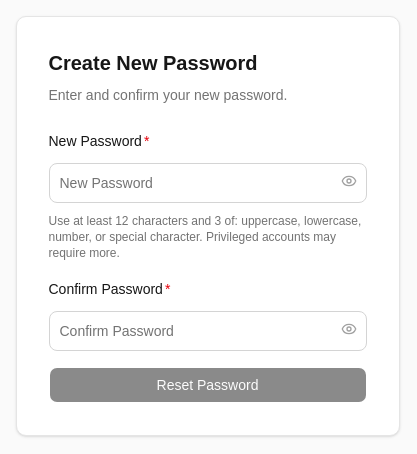
ResetPassword › enforces minimum length and complexity before submission
Step 1. Type "short-A1!" into the password field with id "new-password" → {"x": 208, "y": 183}, box [48,163,366,203]
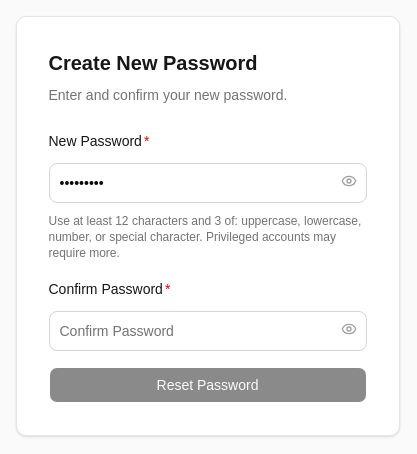
Step 2. Type "short-A1!" into the password field with id "confirm-password" → {"x": 208, "y": 331}, box [48,311,366,351]
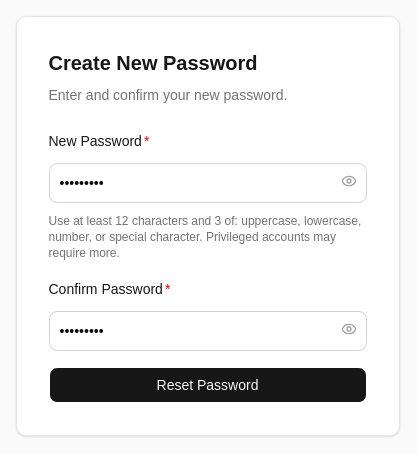
Step 3. Click the button "Reset Password" → {"x": 208, "y": 385}, box [48,367,366,403]
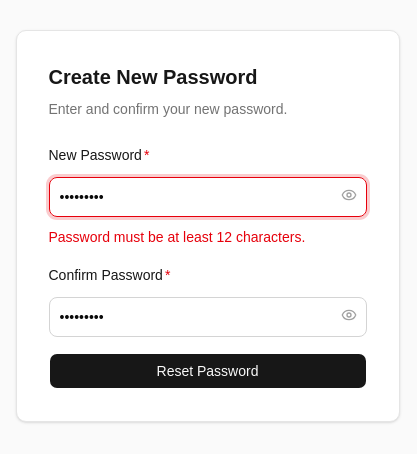
Expected: the text "Password must be at least 12 characters." is shown, [48,229,305,245]
Step 4. Type "alllowercasepassword" into the password field labelled "New Password *" → {"x": 208, "y": 197}, box [48,177,366,217]
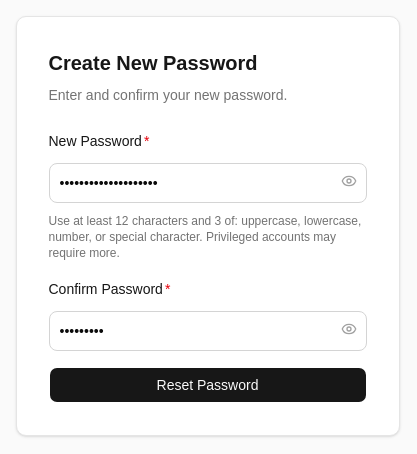
Step 5. Type "alllowercasepassword" into the password field labelled "Confirm Password *" → {"x": 208, "y": 331}, box [48,311,366,351]
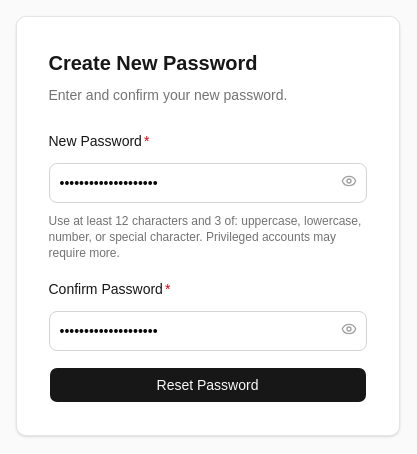
Step 6. Click the button "Reset Password" → {"x": 208, "y": 385}, box [48,367,366,403]
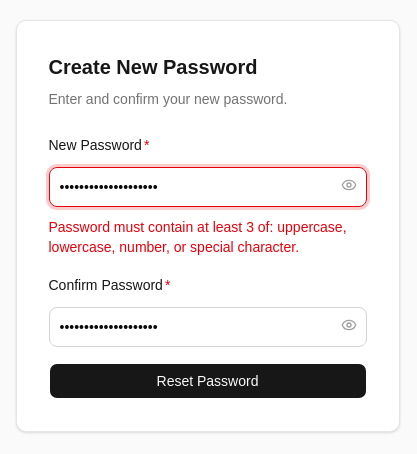
Expected: the text "Password must contain at least 3 of: uppercase, lowercase, number, or special character." is shown, [48,219,346,255]
